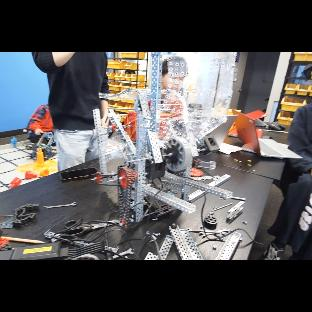Robot: (93, 52, 236, 225)
